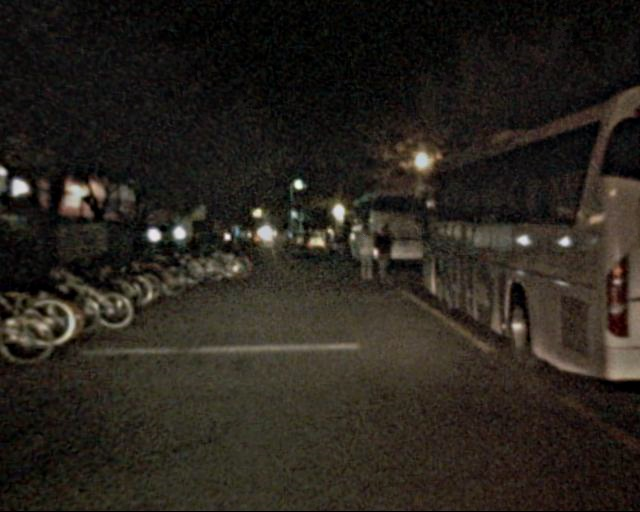person: (371, 226, 394, 282), (353, 228, 375, 282), (331, 228, 348, 270)
